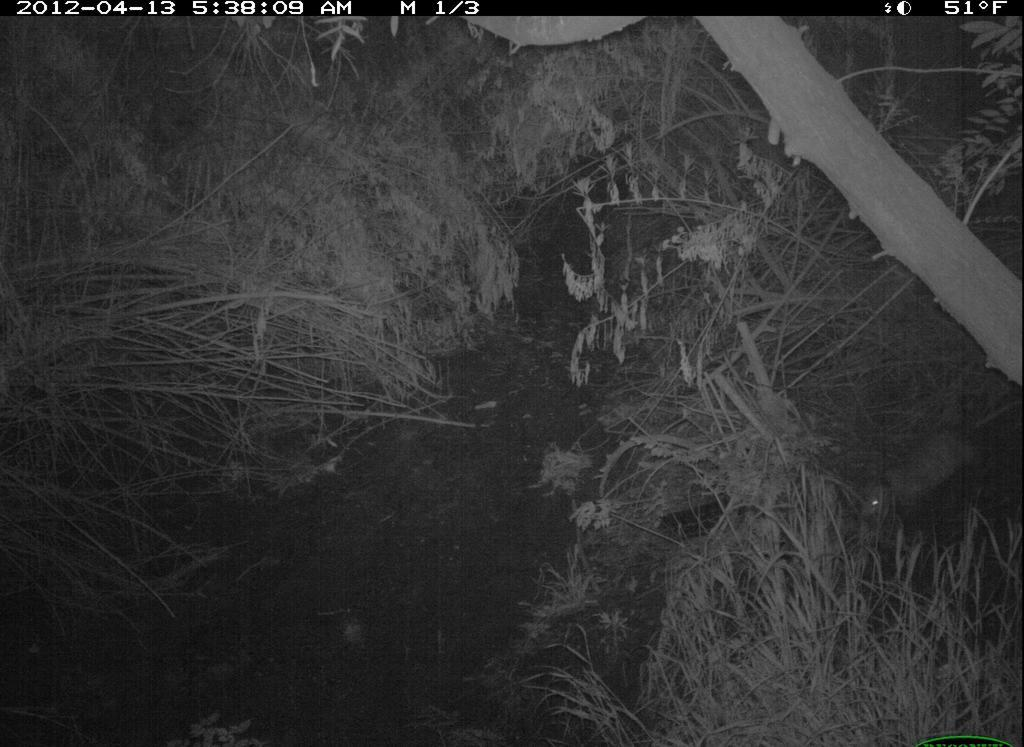opossum: (853, 396, 1018, 534)
